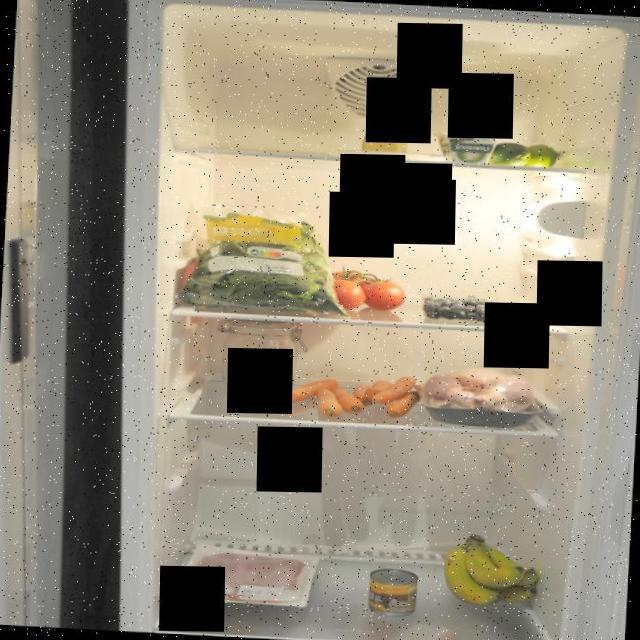Carne cerdo: (186, 550, 308, 602)
Carne pollo: (417, 362, 542, 428)
Plátano: (435, 530, 549, 610)
Queso: (360, 122, 412, 158)
Tomate: (317, 262, 410, 314)
Zanahoria: (284, 366, 423, 422)
